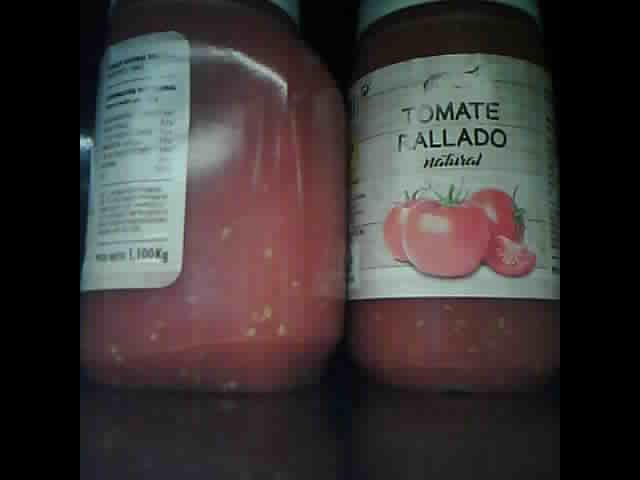tomate: (83, 3, 346, 389), (347, 4, 558, 387)
